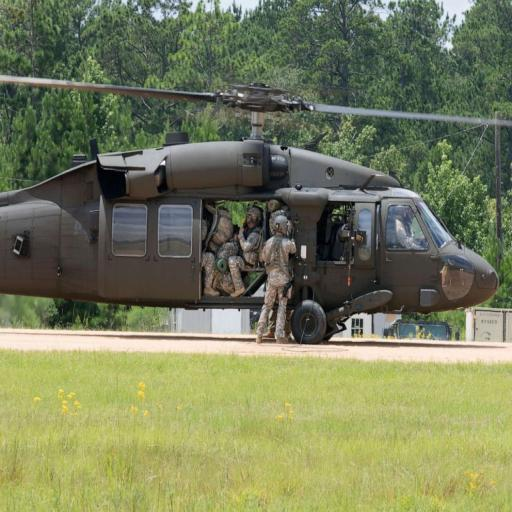helicopter: (3, 78, 504, 356)
